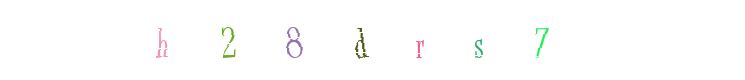2: (213, 0, 293, 80)
7: (476, 0, 556, 80)
8: (257, 0, 337, 80)
D: (321, 0, 401, 80)
H: (208, 0, 288, 80)
R: (322, 0, 402, 80)
S: (332, 0, 412, 80)
